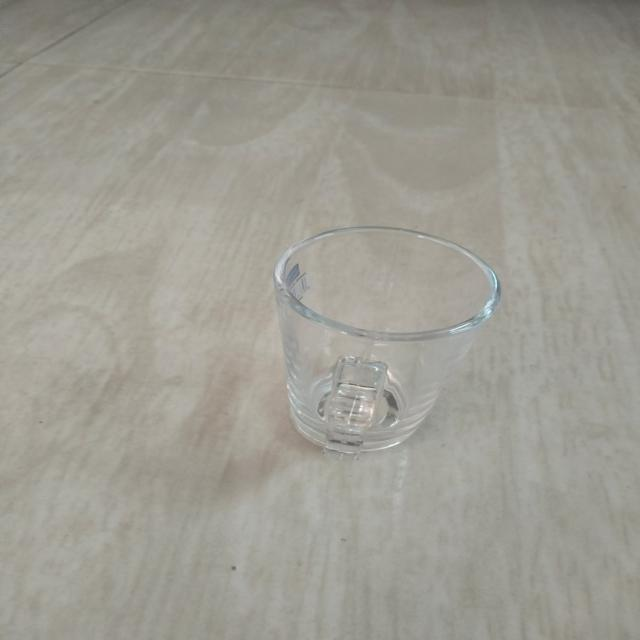glass-VX4N: (272, 225, 502, 456)
